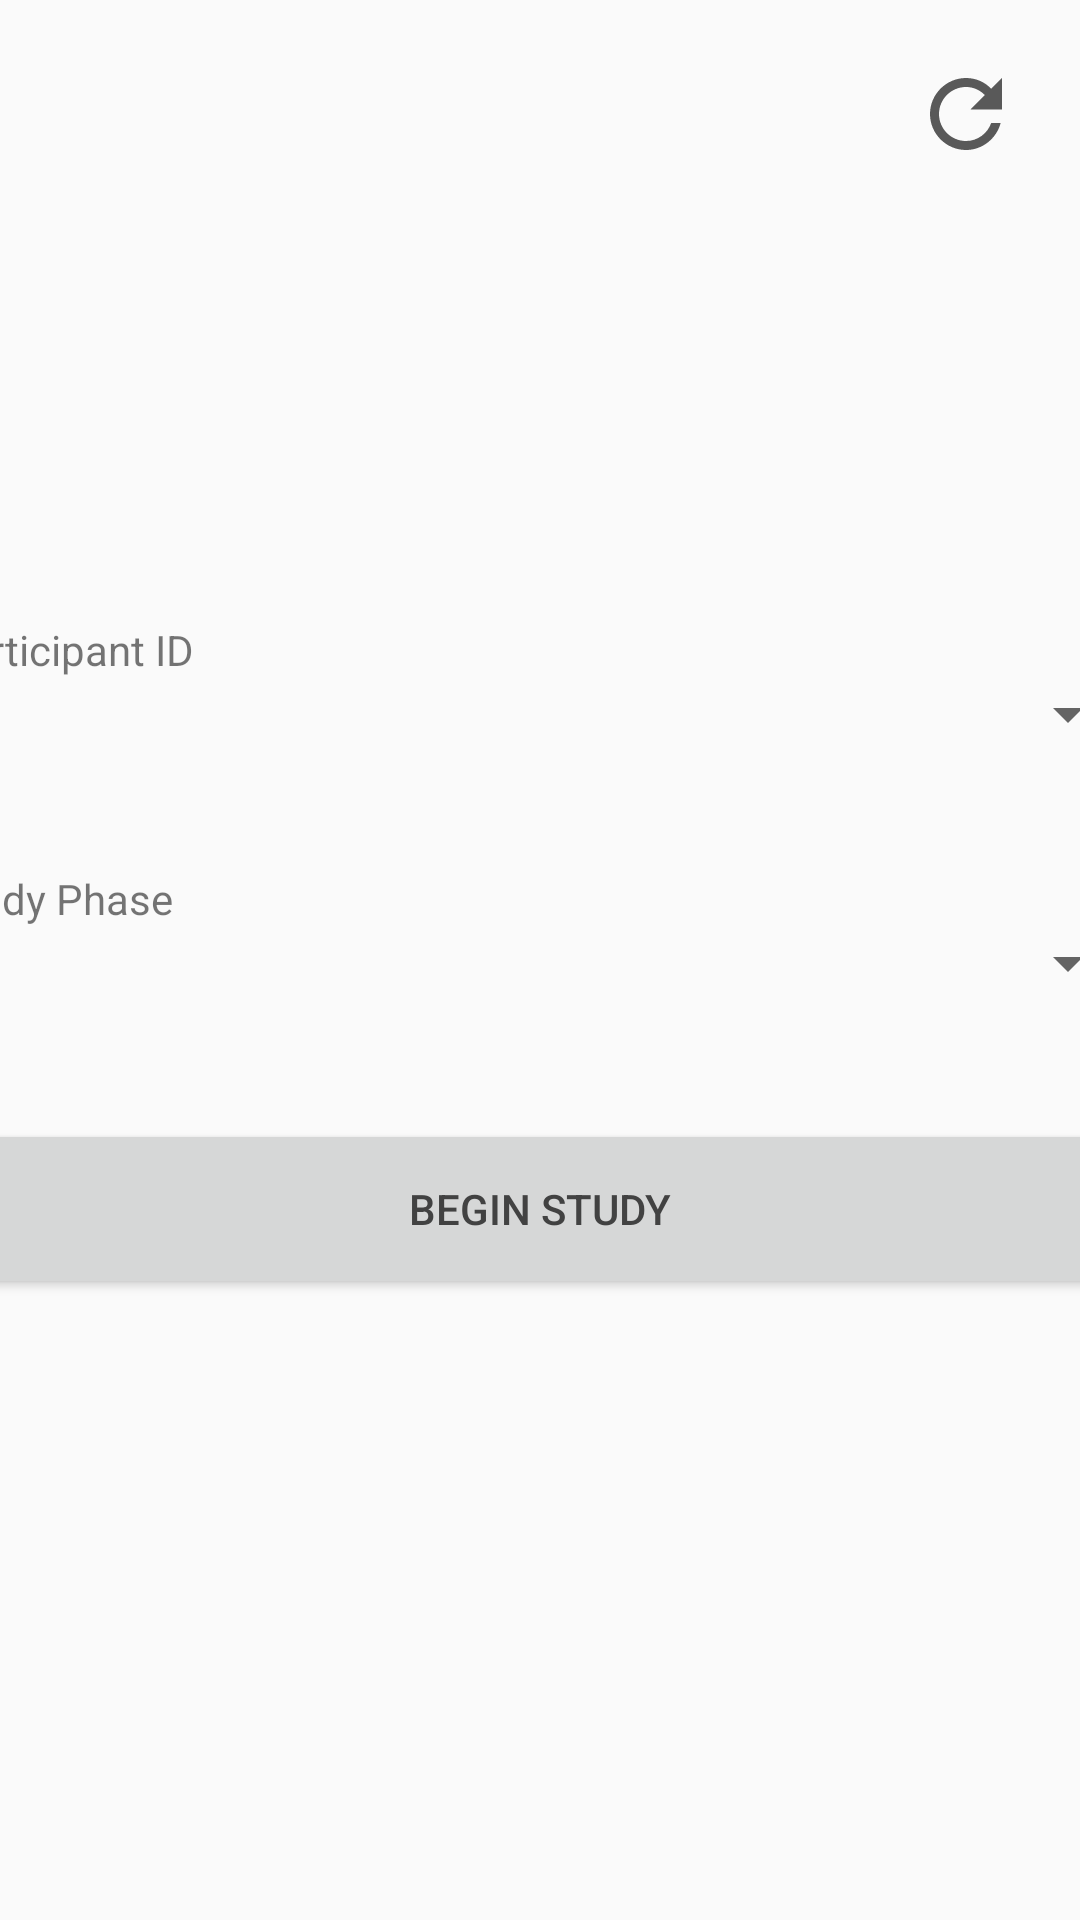

Screen size 1080 x 1920. Icon name, then its center in pixels as point (x, y):
refresh: point (966, 114)
